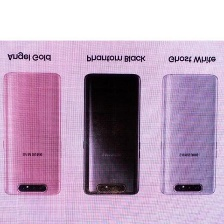phone: (0, 69, 65, 199), (78, 71, 144, 199), (157, 70, 219, 198)
